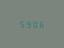five: (18, 19, 23, 27)
nine: (24, 19, 29, 27)
six: (36, 20, 41, 28)
zero: (30, 19, 35, 28)
